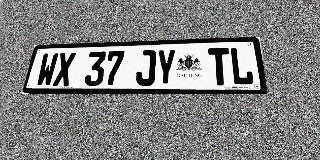3: (84, 51, 107, 86)
7: (103, 51, 125, 86)
J: (135, 50, 156, 86)
L: (229, 47, 254, 85)
T: (208, 48, 231, 85)
W: (35, 53, 59, 86)
X: (52, 52, 76, 86)
Y: (155, 49, 176, 86)
